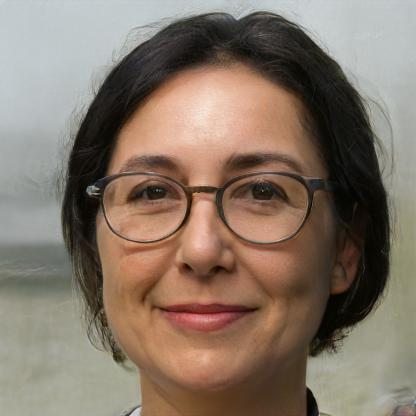glasses: (95, 166, 316, 248)
